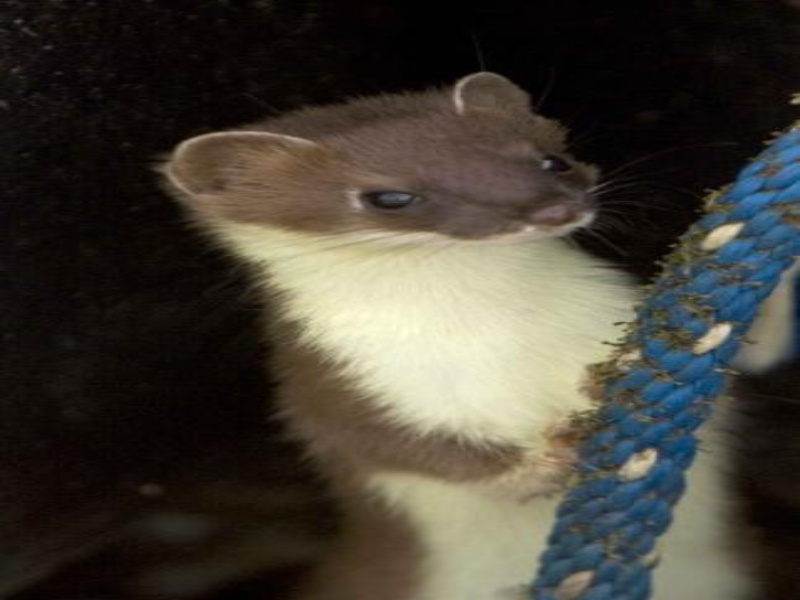minkish: (156, 71, 760, 580)
